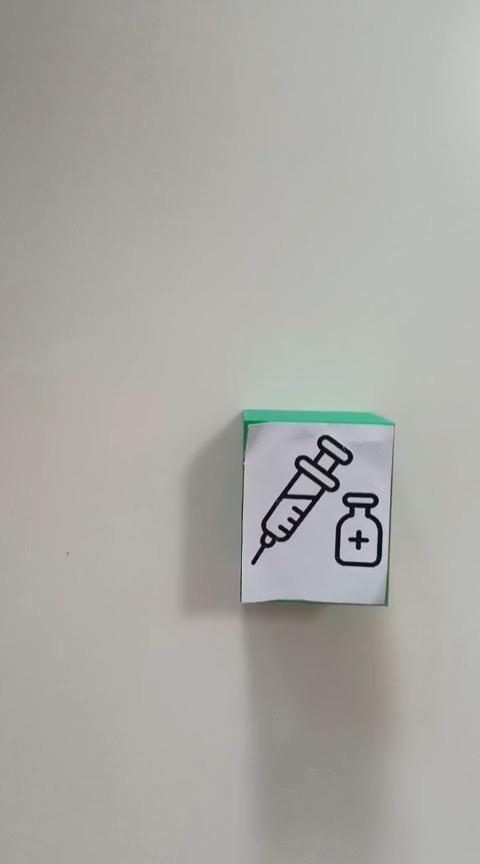antiseptic cream: (239, 408, 395, 606)
